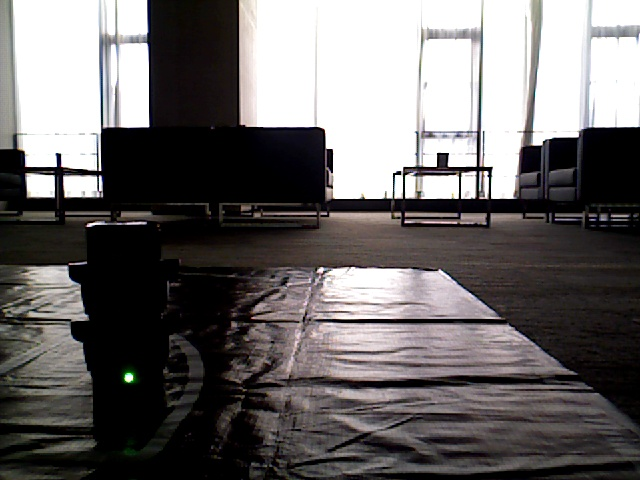green: (98, 231, 154, 394)
